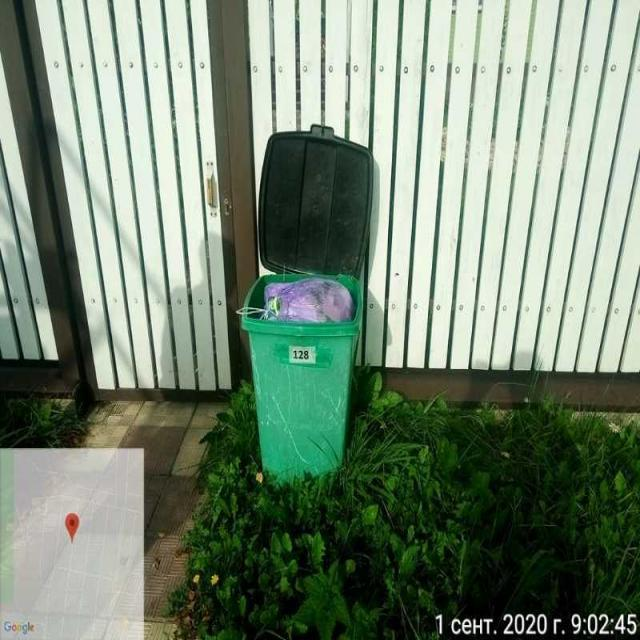Dumpster: (244, 272, 358, 474)
